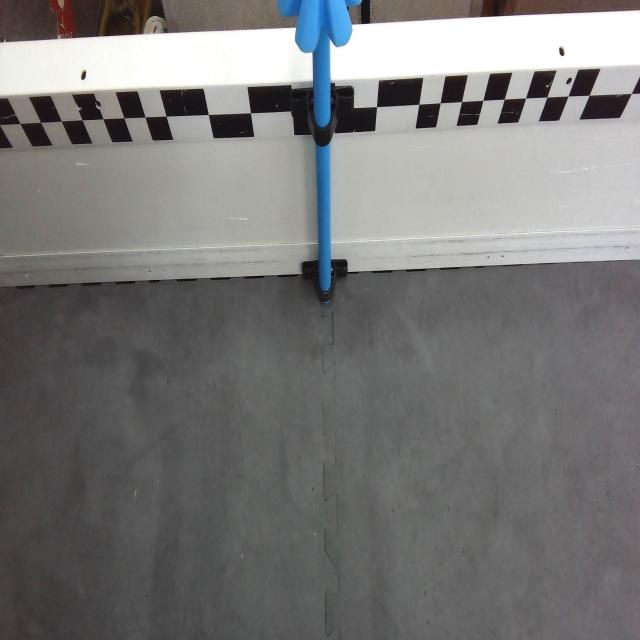zblue-Stake-Head: (277, 0, 358, 53)
